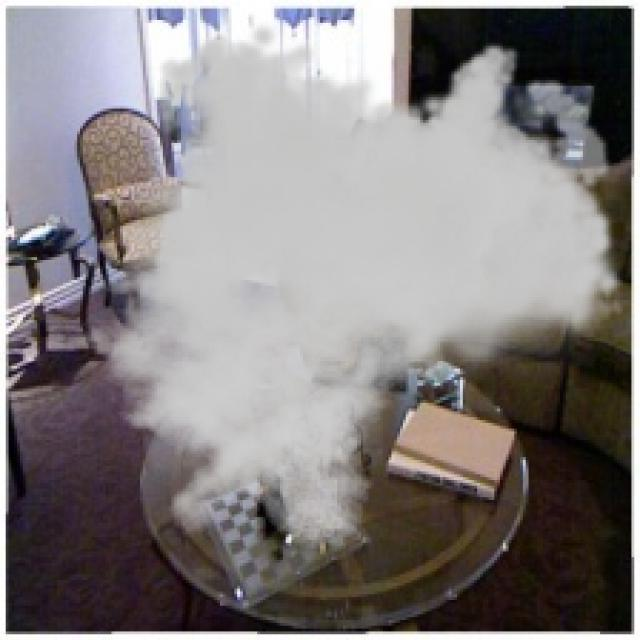Smoke: (57, 19, 626, 552)
